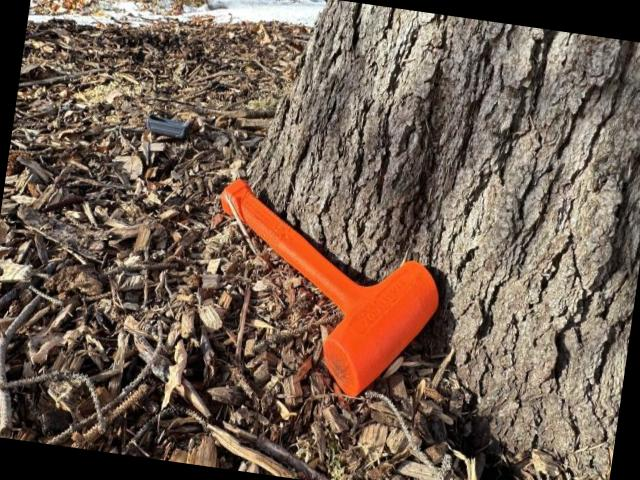hammer: (197, 177, 452, 406)
